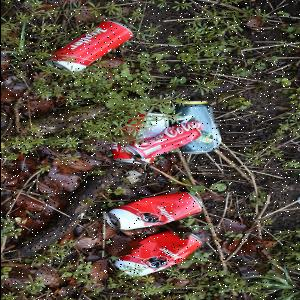Can: (46, 21, 134, 74), (112, 233, 204, 279), (106, 192, 204, 232), (176, 101, 224, 157), (133, 124, 205, 161)
